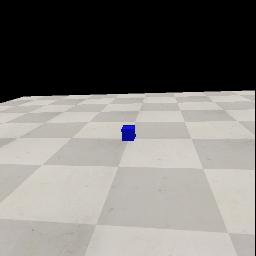box: (121, 125, 136, 141)
